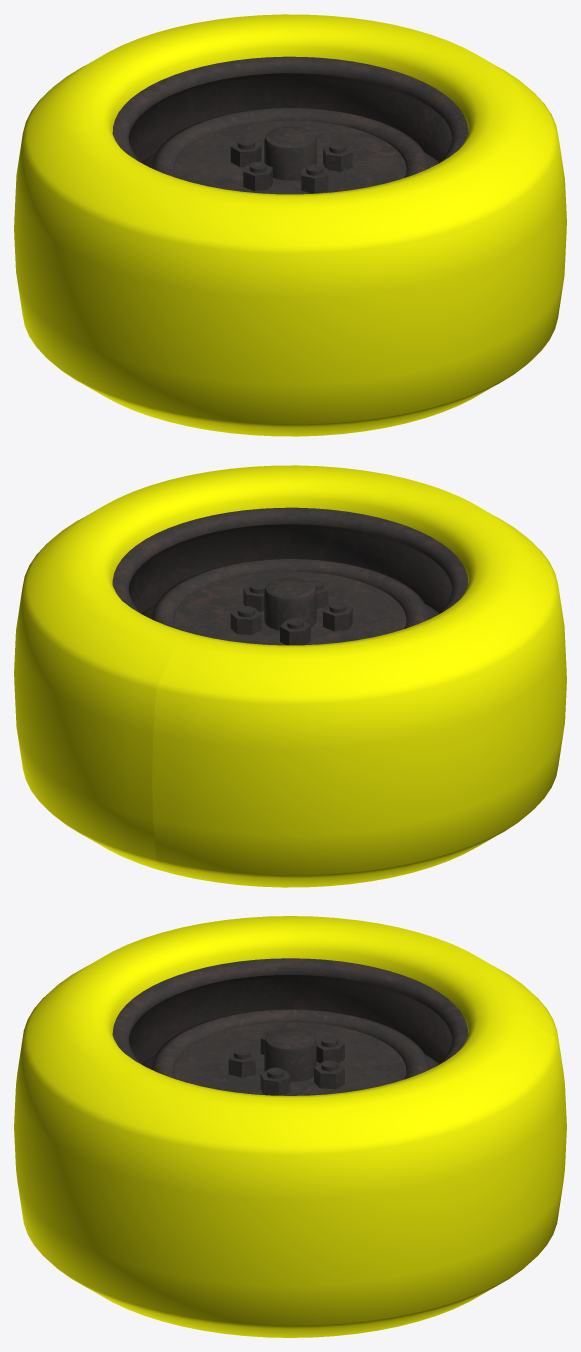
Rendered from TruckFrontTire2.obj.
3 renders of one model, top to bottom at view 1: azimuth 30°, elevation 25°; view 2: azimuth 150°, elevation 25°; view 3: azimuth 270°, elevation 25°, orthographic.
Parts seen in each view (by area): view 1: 4016_12880_MI_Wheel_GreenClaw01_3550_15822_LOD0.001; view 2: 4016_12880_MI_Wheel_GreenClaw01_3550_15822_LOD0.001; view 3: 4016_12880_MI_Wheel_GreenClaw01_3550_15822_LOD0.001.
Boxes of the visible parts, <box> form: 4016_12880_MI_Wheel_GreenClaw01_3550_15822_LOD0.001: <box>14,14,566,436</box>; 4016_12880_MI_Wheel_GreenClaw01_3550_15822_LOD0.001: <box>14,465,566,887</box>; 4016_12880_MI_Wheel_GreenClaw01_3550_15822_LOD0.001: <box>14,916,566,1337</box>.
Bounding box in the file's own units: 0.825 × 0.3744 × 0.825.
Materials: 2 (1 with a texture image).
